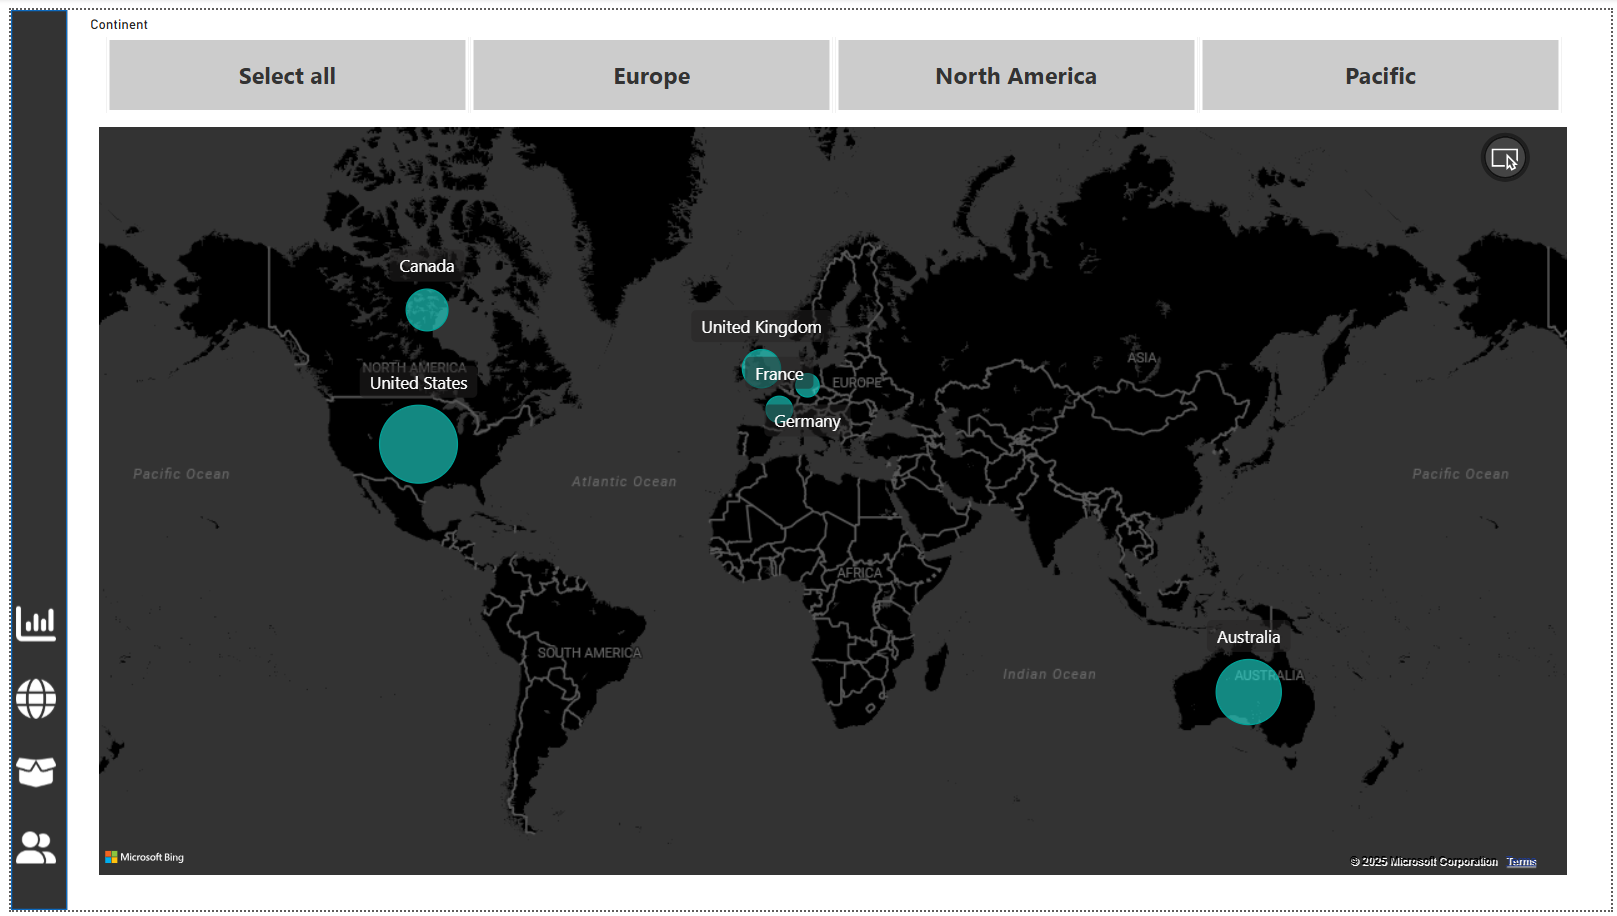

This screenshot's page, from the dashboard's own definition file:
{"tool":"powerbi","page":{"name":"Map","canvas":[1280,720],"ordinal":1},"visuals":[{"type":"shape","box":[0,0,45,720],"z":0},{"type":"actionButton","box":[0,470.9,44.6,40.3],"z":0,"group":"g1"},{"type":"map","fields":{"Category":["Territory Lookup.Country"],"Size":["Measure Table (2).total order"]},"box":[64.8,89.3,1185.1,607.7],"z":1000},{"type":"actionButton","box":[0,589.9,44.6,40.3],"z":1000,"group":"g1"},{"type":"slicer","fields":{"Values":["Territory Lookup.Continent"]},"box":[50.4,0,1213.9,89.3],"z":2000},{"type":"actionButton","box":[0,649.5,44.6,40.3],"z":2000,"group":"g1"},{"type":"actionButton","box":[0,530.4,44.6,40.3],"z":3000,"group":"g1"},{"type":"group","id":"g1","title":"Navigation Buttons","box":[0,470.9,44.6,218.9],"z":3000}]}

Visuals, with their boxes in screenshot pixels (x1, y1, x2, y2):
shape: region(4, 8, 60, 905)
actionButton: region(4, 595, 60, 645)
map - Territory Lookup.Country x Measure Table (2).total order: region(85, 120, 1561, 877)
actionButton: region(4, 743, 60, 794)
slicer - Territory Lookup.Continent: region(67, 8, 1579, 120)
actionButton: region(4, 818, 60, 868)
actionButton: region(4, 669, 60, 719)
"Navigation Buttons" group: region(4, 595, 60, 868)
